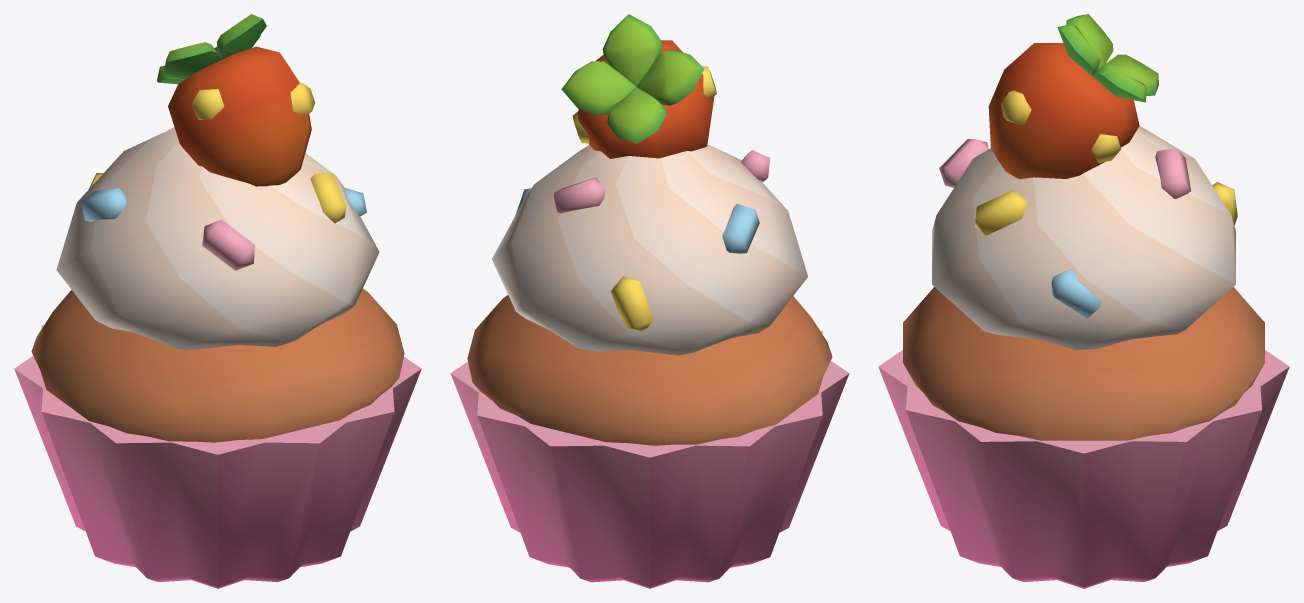
File: Cupcake-transformed.glb
The picture shows the model from 3 angles, left to right: view 1: azimuth 30°, elevation 25°; view 2: azimuth 150°, elevation 25°; view 3: azimuth 270°, elevation 25°; orthographic projection. The views are drawn at different scales.
Visible parts, largest first — view 1: cupcake; view 2: cupcake; view 3: cupcake.
Boxes of the visible parts, x1=… form: cupcake: x1=14, y1=14, x2=421, y2=588; cupcake: x1=450, y1=14, x2=849, y2=588; cupcake: x1=878, y1=14, x2=1289, y2=588.
Size of the model in its own units: 0.3617 by 0.5102 by 0.3617.
Materials: 1 (1 with a texture image).
